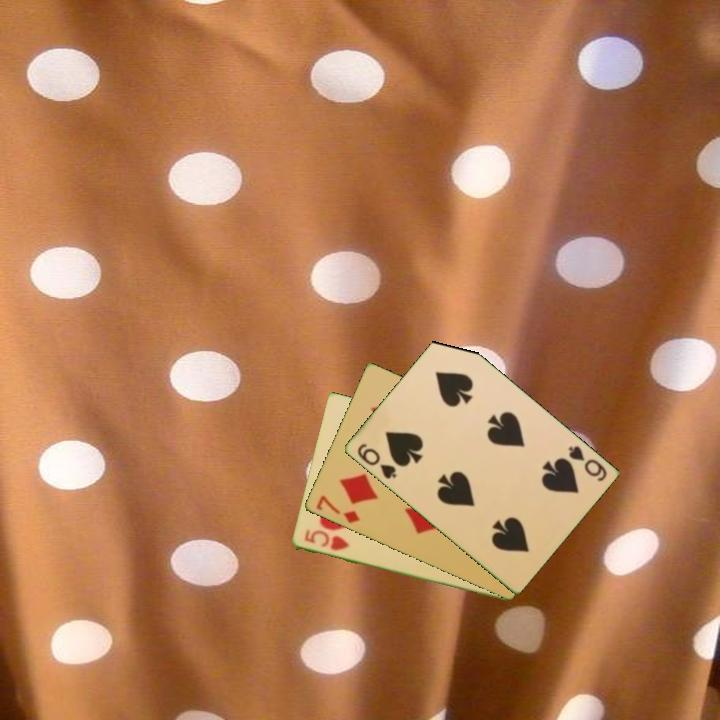5h: (301, 526, 352, 554)
6s: (353, 440, 399, 482), (564, 442, 609, 484)
7d: (312, 492, 362, 526)
